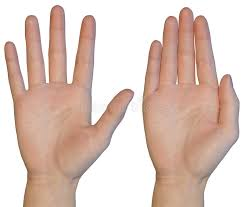palm: (150, 94, 228, 173), (23, 89, 93, 163)
